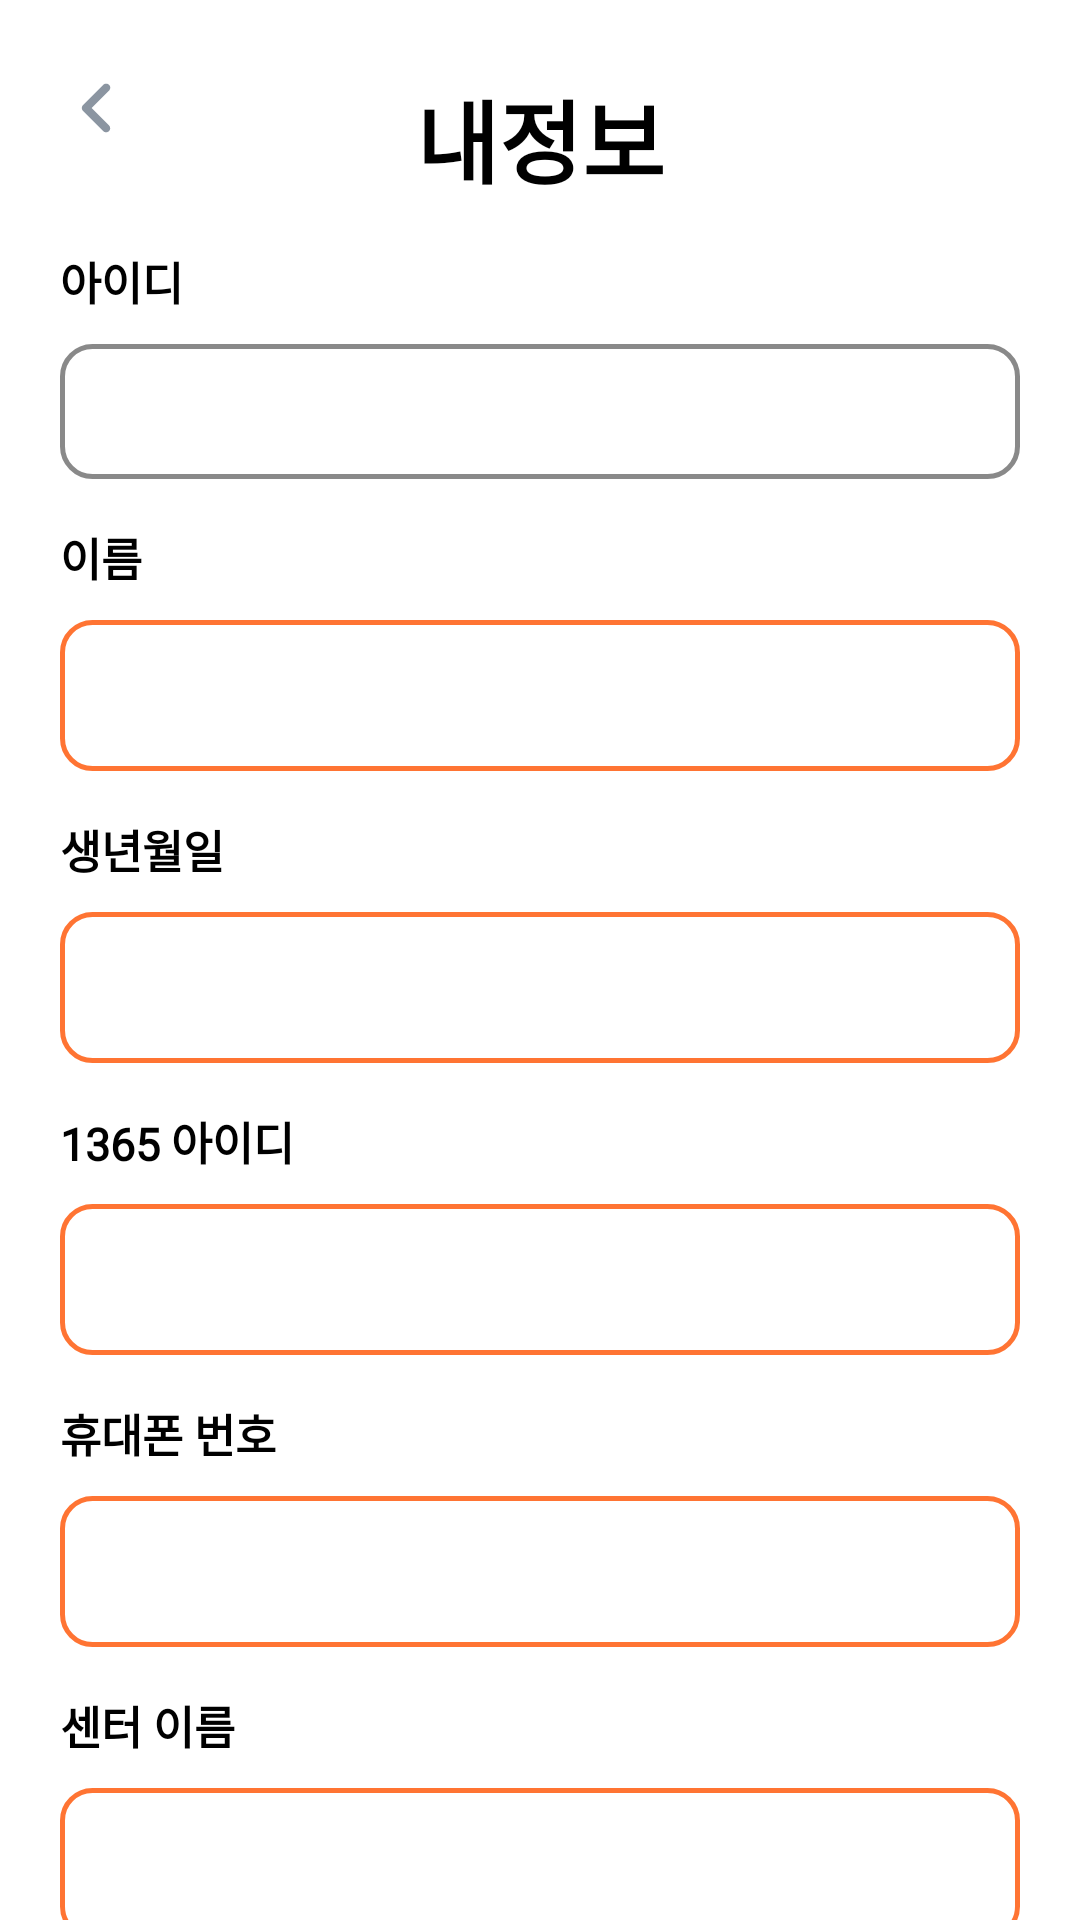

Screen size 1080 × 1920. Icon name, then its center in pixels as (x=x, y=y):
arrow left mono: (x=96, y=108)
